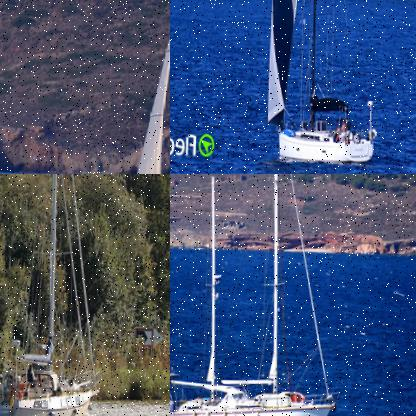Sails Boat: (170, 174, 352, 415), (0, 174, 113, 415), (266, 0, 391, 165), (108, 0, 169, 173)
